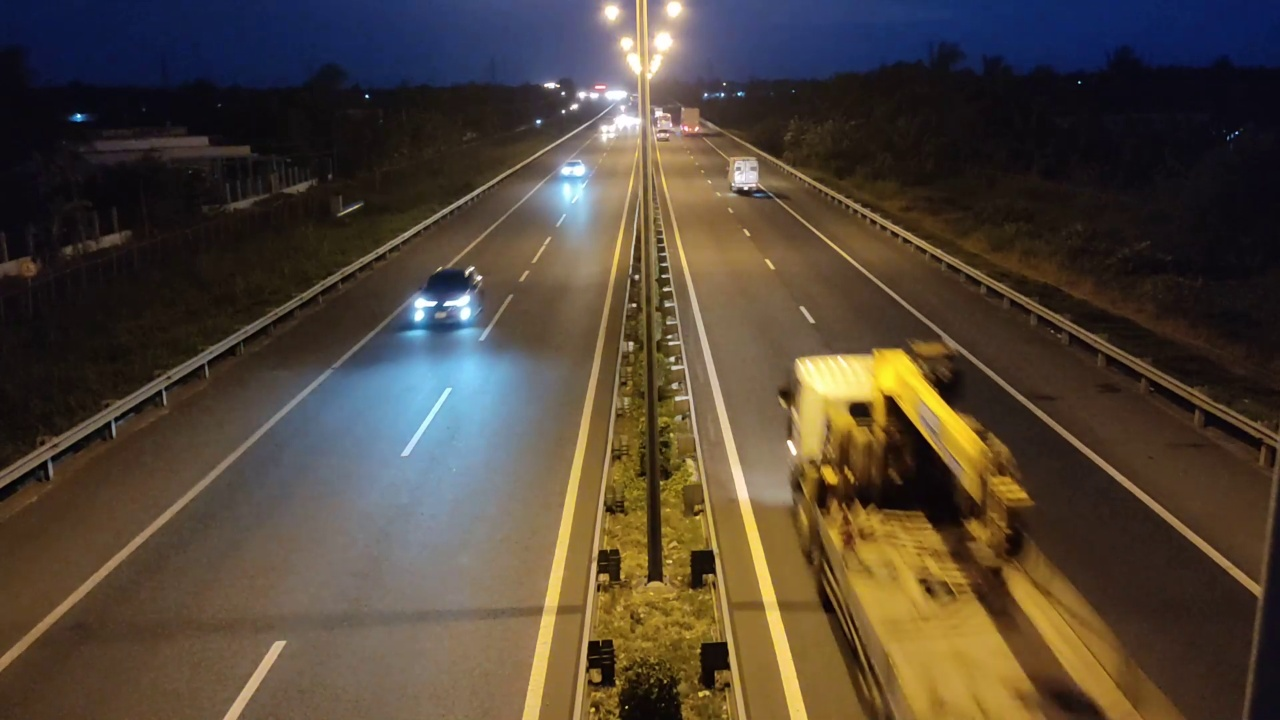car: (409, 266, 485, 329)
truck: (781, 337, 1110, 716)
